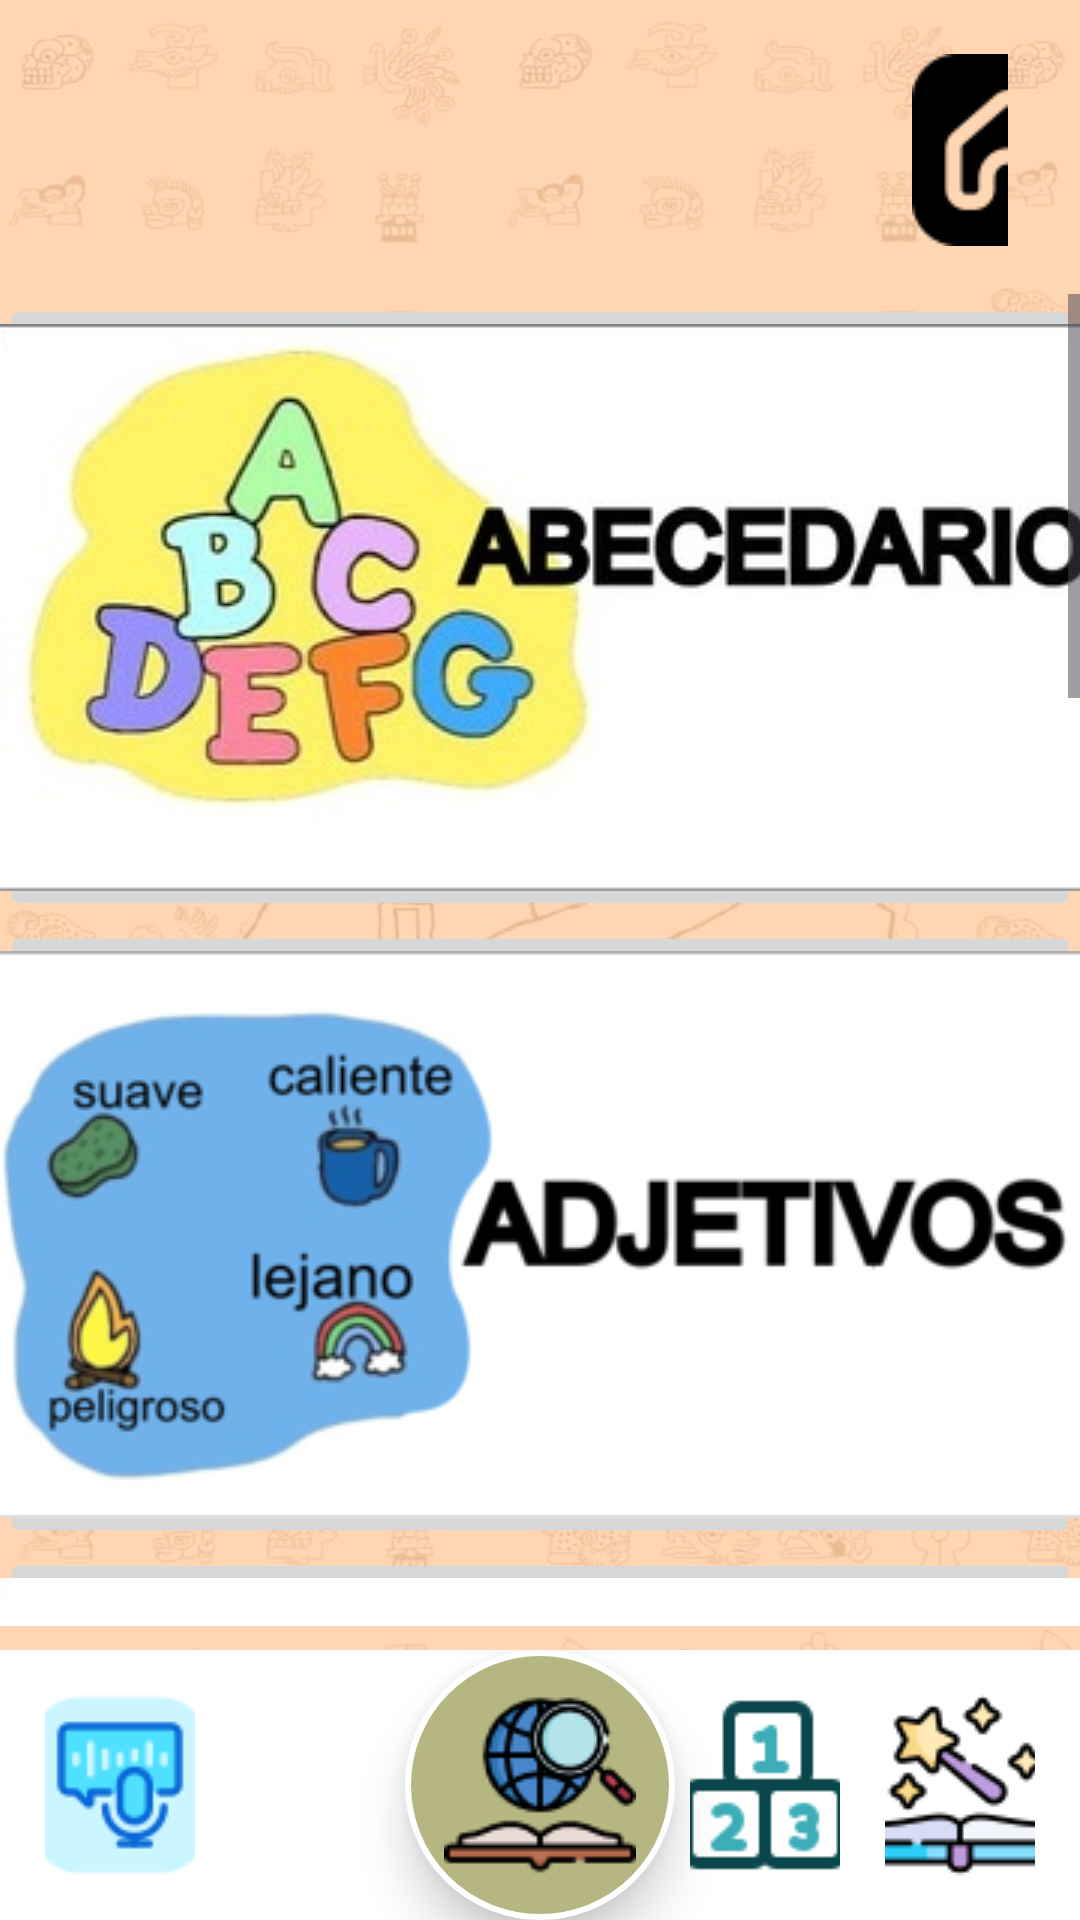

Icons on this 1080 × 1920 Android screen, each with the point to tap as (x,y):
Glosario: (540,1785)
Matemáticas: (765,1785)
Voz: (120,1785)
